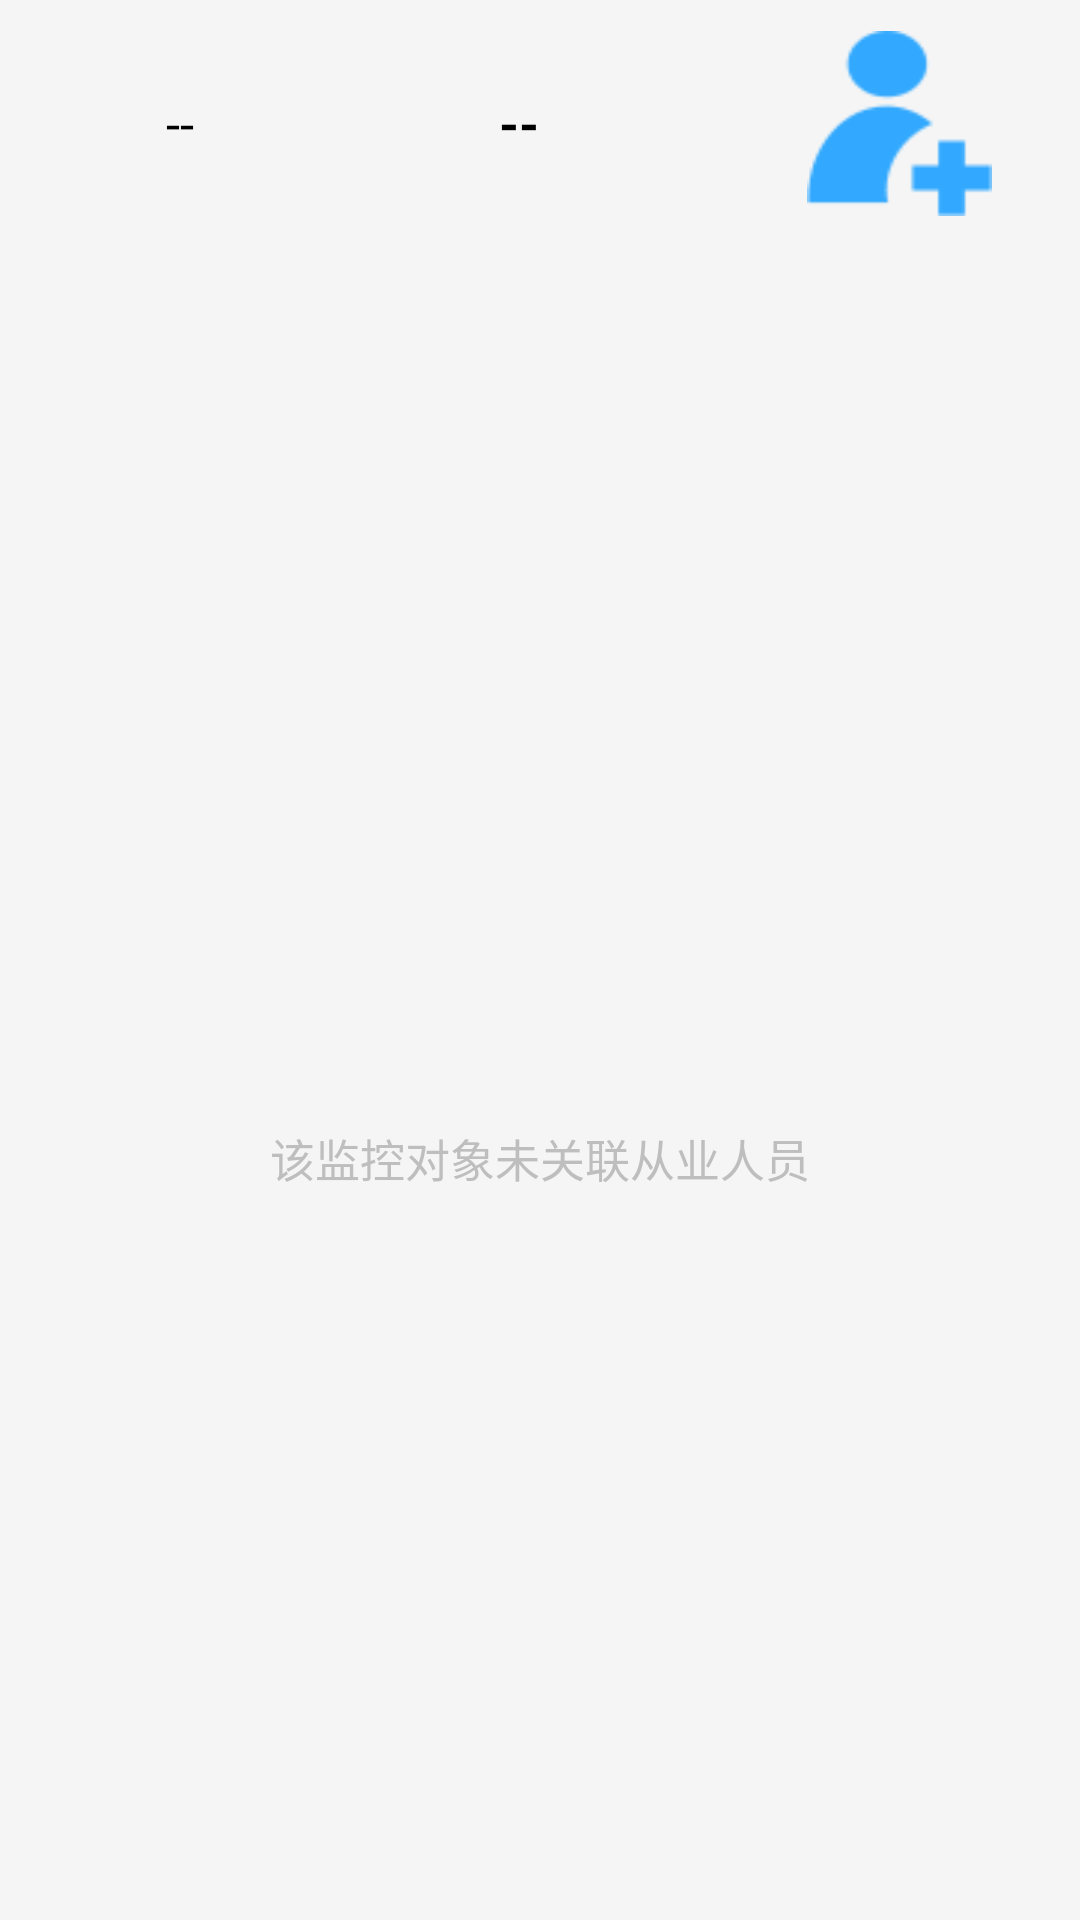

Icons on this 1080w x 1920h Android screen, each with the point to tap as (x,y):
add people: (899,123)
